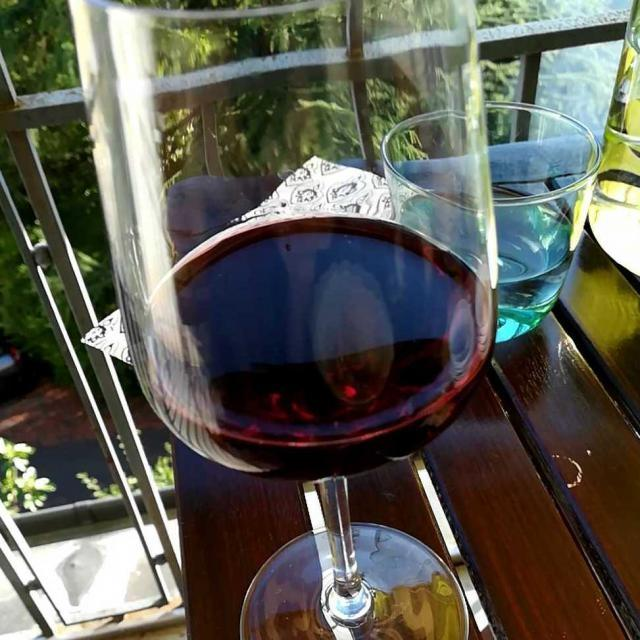water: (391, 164, 578, 339)
wine: (134, 209, 500, 489)
